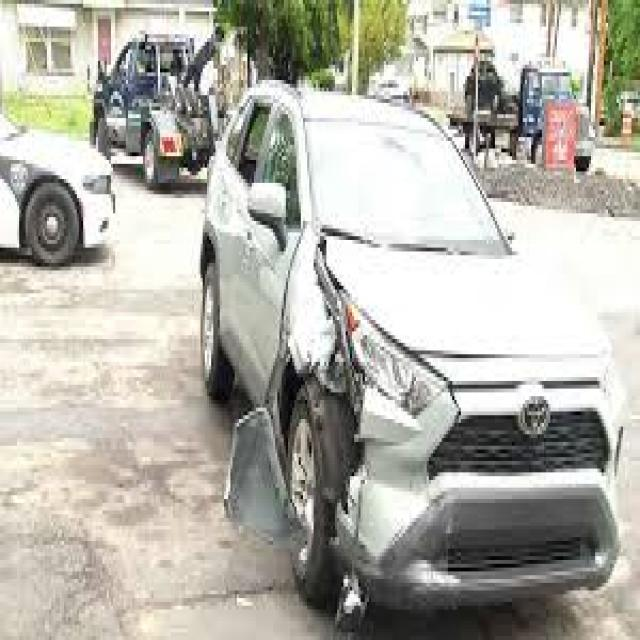accident: (181, 80, 626, 611)
